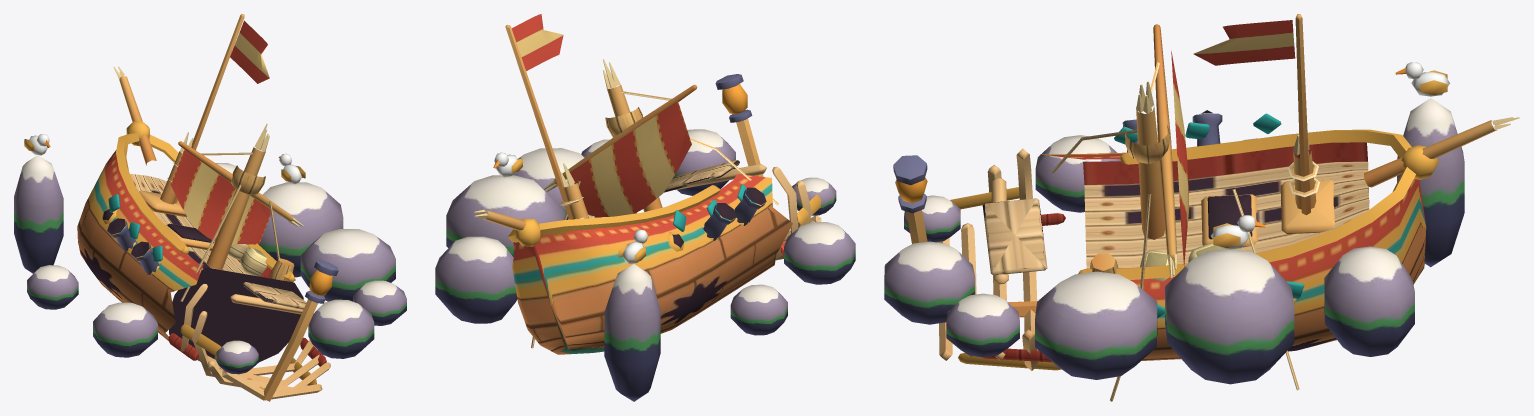
File: sea_wreck.glb
3 renders of one model, left to right at view 1: azimuth 30°, elevation 25°; view 2: azimuth 150°, elevation 25°; view 3: azimuth 270°, elevation 25°, orthographic. The views are drawn at different scales.
Parts seen in each view (by area): view 1: Hull, Reef, Rigging, Sail0_0, Flag; view 2: Hull, Reef, Sail0_0, Rigging, Flag; view 3: Reef, Hull, Rigging, Flag, Sail0_0.
Boxes of the visible parts, x1,y1,x2,y2 form: Hull: [77, 121, 338, 401]; Reef: [14, 134, 406, 374]; Rigging: [113, 14, 303, 301]; Sail0_0: [170, 149, 270, 244]; Flag: [230, 20, 269, 83]; Hull: [508, 74, 821, 354]; Reef: [435, 129, 855, 401]; Sail0_0: [570, 101, 691, 217]; Rigging: [474, 25, 778, 348]; Flag: [512, 14, 563, 70]; Reef: [884, 62, 1464, 384]; Hull: [893, 110, 1439, 370]; Rigging: [1052, 14, 1519, 401]; Flag: [1193, 20, 1295, 65]; Sail0_0: [1171, 51, 1189, 267].
Size of the model in its own units: 2.92 by 2.64 by 3.8.
7 materials, 7 textured.
